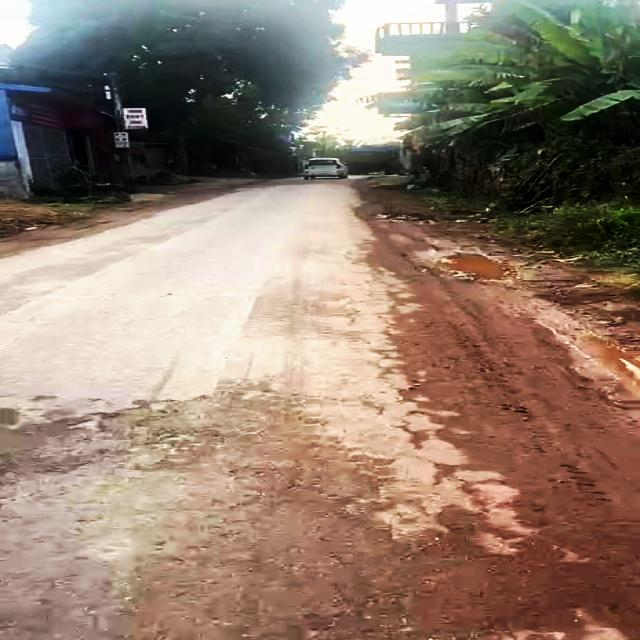pothole: (426, 245, 519, 287)
